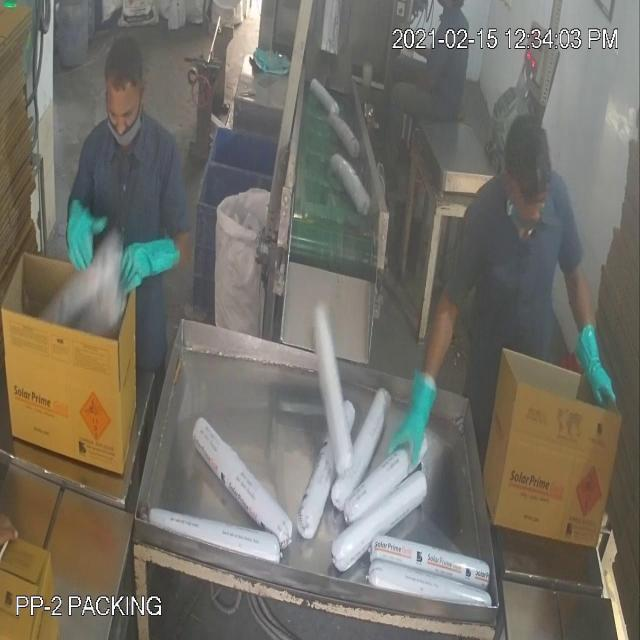Gloves: (44, 86, 596, 422)
